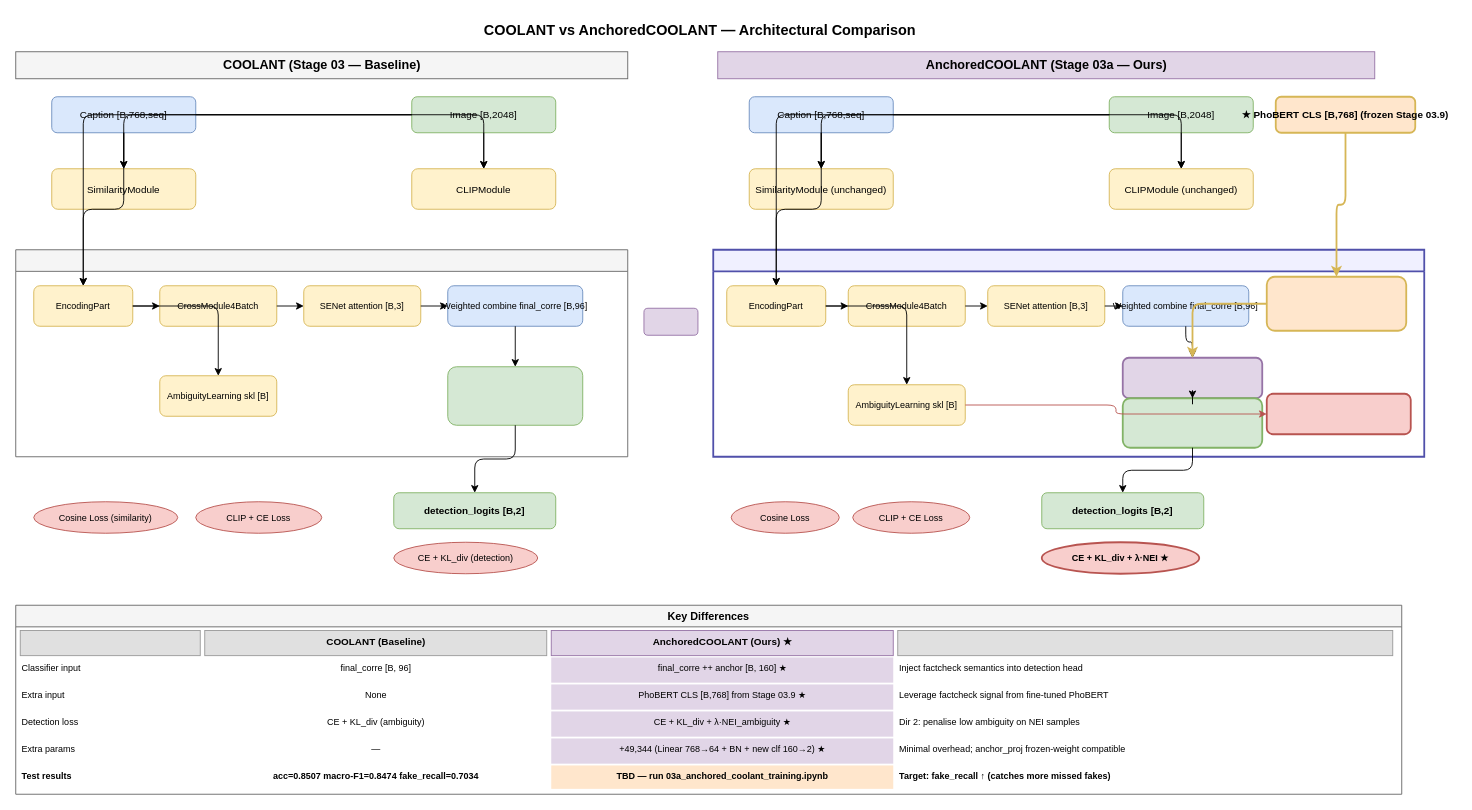
The diagram is 1472 pixels wide and 810 high, and some of its shapes have lost their labels. Each missing label, with the box of its shape:
AnchoredDetectionModule ★ Direction 1: (712, 248, 1425, 457)
Aspect: (19, 630, 200, 656)
classifier_corre Linear(96→64)→ReLU →Linear(64→2): (447, 366, 583, 425)
DetectionModule (original): (15, 249, 628, 457)
Motivation: (897, 630, 1393, 656)
NEW: (643, 307, 698, 335)
★ anchor_proj Linear(768→64)+BN+ReLU anchor [B,64]: (1265, 275, 1407, 331)
★ classifier_corre Linear(160→64)→ReLU →Linear(64→2): (1121, 397, 1263, 448)
★ Concat [B,160] final_corre ++ anchor: (1121, 356, 1263, 399)
★ NEI-Ambiguity Loss (Dir 2) mean(P(NEI) × (1−skl)): (1265, 392, 1411, 435)
